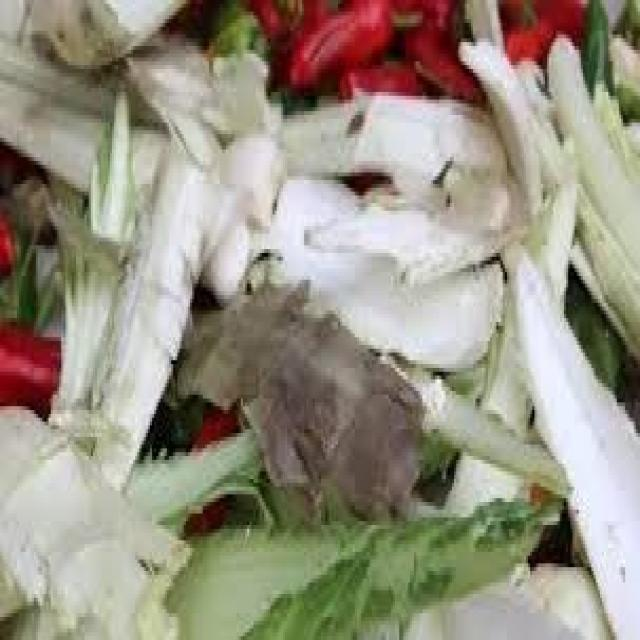biodegradable: (0, 0, 638, 636), (0, 0, 501, 364), (157, 491, 609, 636), (176, 269, 423, 518), (460, 39, 638, 357), (439, 130, 581, 510), (503, 245, 638, 636), (260, 157, 503, 368), (0, 403, 190, 637), (91, 134, 205, 491), (273, 81, 511, 203), (51, 73, 127, 448), (545, 35, 638, 269), (110, 27, 272, 153), (400, 556, 611, 636), (131, 433, 272, 537), (281, 0, 422, 96), (8, 161, 93, 284), (412, 360, 492, 479), (399, 0, 479, 107), (501, 0, 589, 69), (0, 310, 61, 402), (338, 54, 437, 104), (249, 0, 338, 54), (577, 0, 613, 115), (5, 222, 47, 318), (203, 4, 268, 61), (604, 15, 638, 123), (465, 0, 503, 50), (0, 203, 25, 272)
